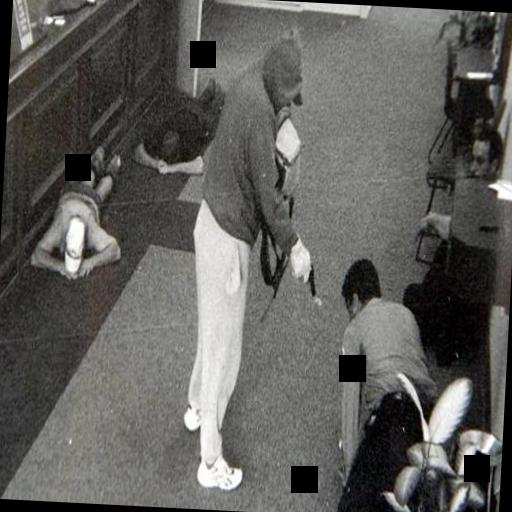Handgun: (294, 230, 329, 314)
